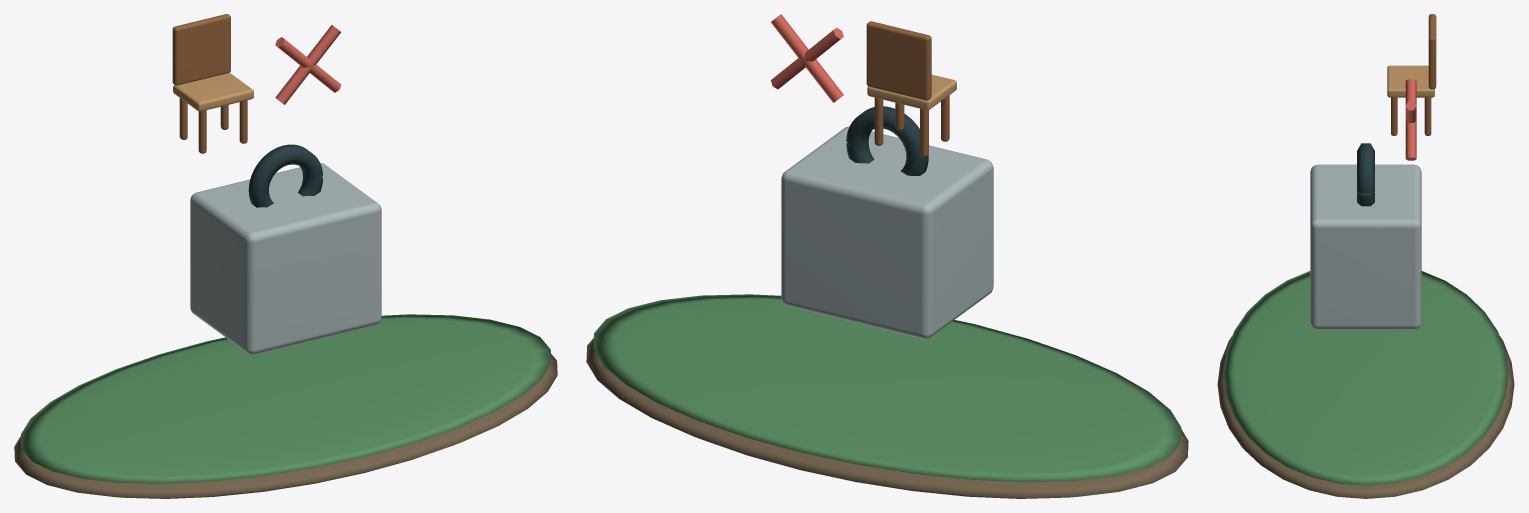
Rendered from complete-third-clumsy-choice.glb.
3 renders of one model, left to right at view 1: azimuth 30°, elevation 25°; view 2: azimuth 150°, elevation 25°; view 3: azimuth 270°, elevation 25°, orthographic. The views are drawn at different scales.
Parts seen in each view (by area): view 1: complete-third-clumsy-choice_surface_01, complete-third-clumsy-choice_surface_02, complete-third-clumsy-choice_surface_00, complete-third-clumsy-choice_surface_05, complete-third-clumsy-choice_surface_03, complete-third-clumsy-choice_surface_04, complete-third-clumsy-choice_surface_06; view 2: complete-third-clumsy-choice_surface_01, complete-third-clumsy-choice_surface_02, complete-third-clumsy-choice_surface_00, complete-third-clumsy-choice_surface_05, complete-third-clumsy-choice_surface_03, complete-third-clumsy-choice_surface_06, complete-third-clumsy-choice_surface_04; view 3: complete-third-clumsy-choice_surface_01, complete-third-clumsy-choice_surface_02, complete-third-clumsy-choice_surface_00, complete-third-clumsy-choice_surface_04, complete-third-clumsy-choice_surface_05, complete-third-clumsy-choice_surface_03, complete-third-clumsy-choice_surface_06.
Boxes of the visible parts, <box> form: complete-third-clumsy-choice_surface_01: <box>21,314,550,483</box>; complete-third-clumsy-choice_surface_02: <box>190,163,381,354</box>; complete-third-clumsy-choice_surface_00: <box>14,354,557,498</box>; complete-third-clumsy-choice_surface_05: <box>172,14,247,153</box>; complete-third-clumsy-choice_surface_03: <box>248,144,322,207</box>; complete-third-clumsy-choice_surface_04: <box>173,72,253,111</box>; complete-third-clumsy-choice_surface_06: <box>275,25,341,104</box>; complete-third-clumsy-choice_surface_01: <box>593,294,1181,482</box>; complete-third-clumsy-choice_surface_02: <box>781,126,993,338</box>; complete-third-clumsy-choice_surface_00: <box>586,338,1188,498</box>; complete-third-clumsy-choice_surface_05: <box>866,21,949,156</box>; complete-third-clumsy-choice_surface_03: <box>846,106,928,175</box>; complete-third-clumsy-choice_surface_06: <box>771,14,843,102</box>; complete-third-clumsy-choice_surface_04: <box>867,74,956,110</box>; complete-third-clumsy-choice_surface_01: <box>1223,271,1508,485</box>; complete-third-clumsy-choice_surface_02: <box>1310,164,1421,329</box>; complete-third-clumsy-choice_surface_00: <box>1217,336,1514,498</box>; complete-third-clumsy-choice_surface_04: <box>1387,65,1434,97</box>; complete-third-clumsy-choice_surface_05: <box>1391,14,1436,135</box>; complete-third-clumsy-choice_surface_03: <box>1357,143,1374,206</box>; complete-third-clumsy-choice_surface_06: <box>1405,79,1416,160</box>.
Size of the model in its own units: 4.56 by 3.27 by 2.5.
